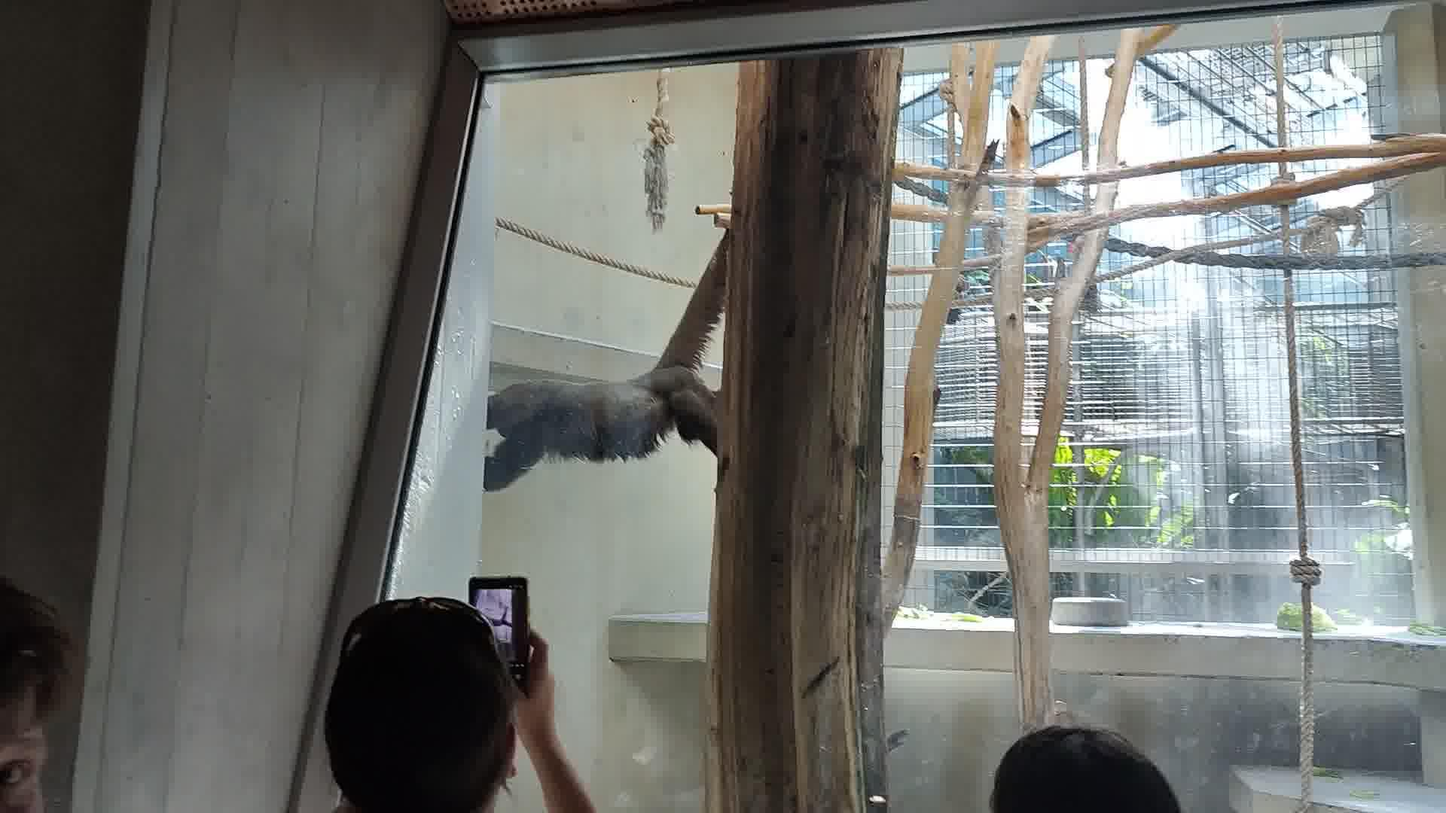boar: (483, 228, 730, 491)
